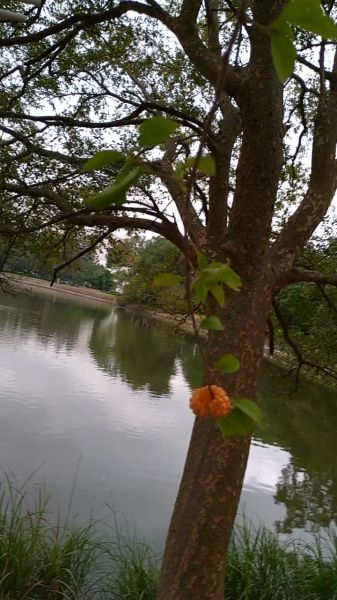eggs: (185, 381, 238, 427)
